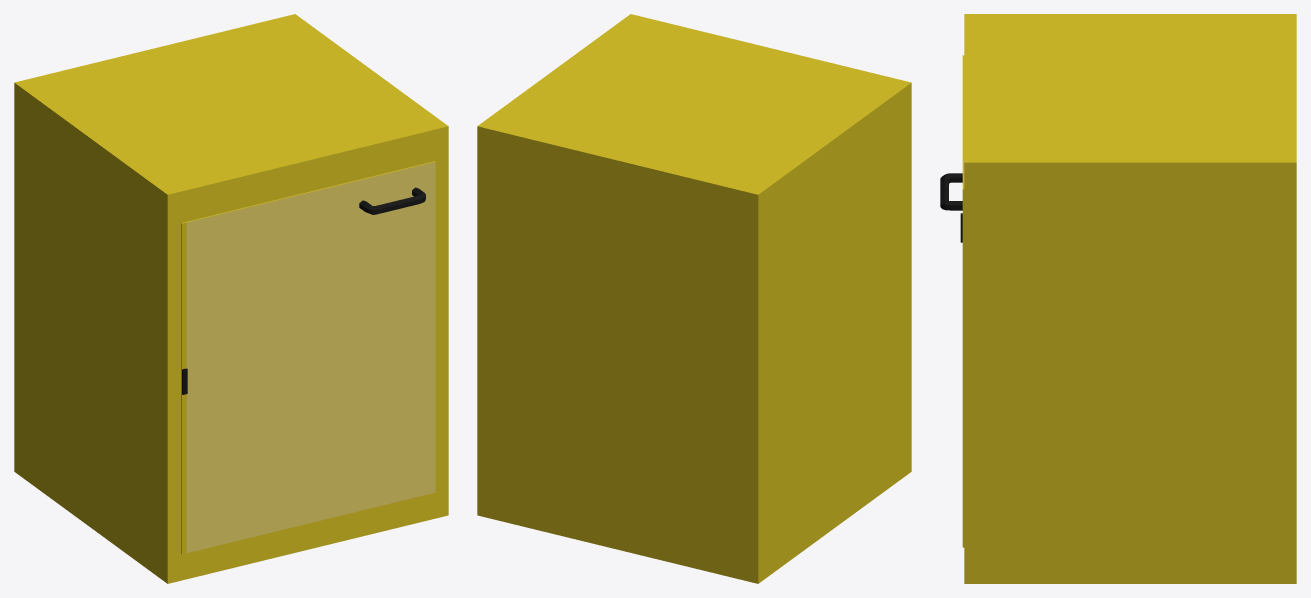
File: dangercub.fbx
3 renders of one model, left to right at view 1: azimuth 30°, elevation 25°; view 2: azimuth 150°, elevation 25°; view 3: azimuth 270°, elevation 25°, orthographic. The views are drawn at different scales.
Parts seen in each view (by area): view 1: polySurface1, pCylinder2; view 2: polySurface1; view 3: polySurface1, pCylinder2.
Boxes of the visible parts, left/top/right/bottom form: polySurface1: left=14, top=14, right=448, bottom=583; pCylinder2: left=181, top=161, right=435, bottom=554; polySurface1: left=477, top=14, right=911, bottom=583; polySurface1: left=964, top=14, right=1296, bottom=583; pCylinder2: left=940, top=55, right=964, bottom=547.
Bounding box in the file's own units: 1 × 1.32 × 1.01.
